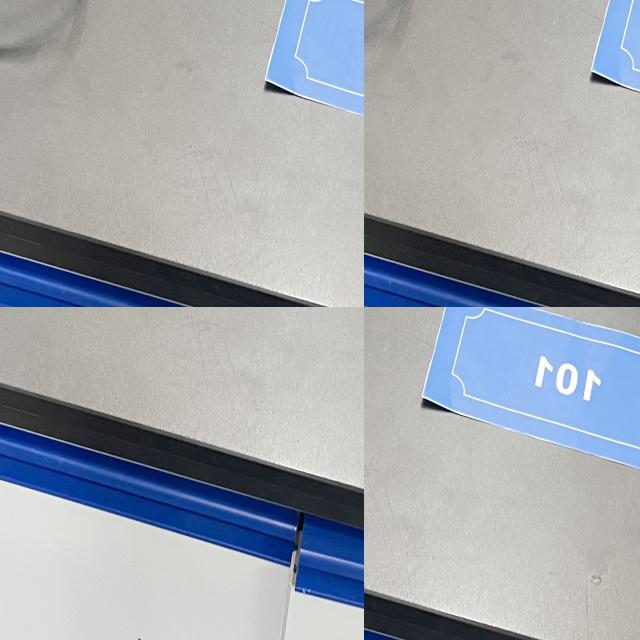Card: (411, 307, 640, 492), (92, 542, 364, 640), (0, 307, 91, 403), (297, 47, 364, 159)
